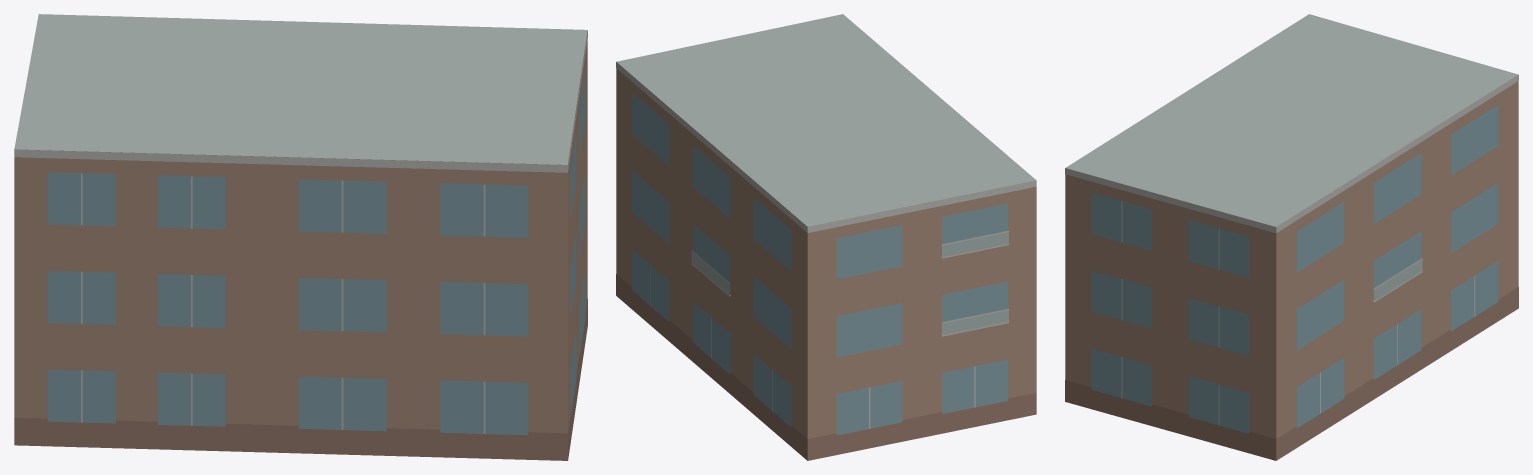
The model's file is survey-upis-32706684.glb.
The picture shows the model from 3 angles, left to right: view 1: azimuth 30°, elevation 25°; view 2: azimuth 150°, elevation 25°; view 3: azimuth 270°, elevation 25°; orthographic projection. The views are drawn at different scales.
Visible parts, largest first — view 1: survey-upis-32706684.tmp; view 2: survey-upis-32706684.tmp; view 3: survey-upis-32706684.tmp.
Part boxes in pixels (x1=…): survey-upis-32706684.tmp: x1=14, y1=14, x2=587, y2=460; survey-upis-32706684.tmp: x1=616, y1=14, x2=1036, y2=460; survey-upis-32706684.tmp: x1=1065, y1=14, x2=1518, y2=460.
Bounding box in the file's own units: 17.89 × 9.15 × 16.09.
